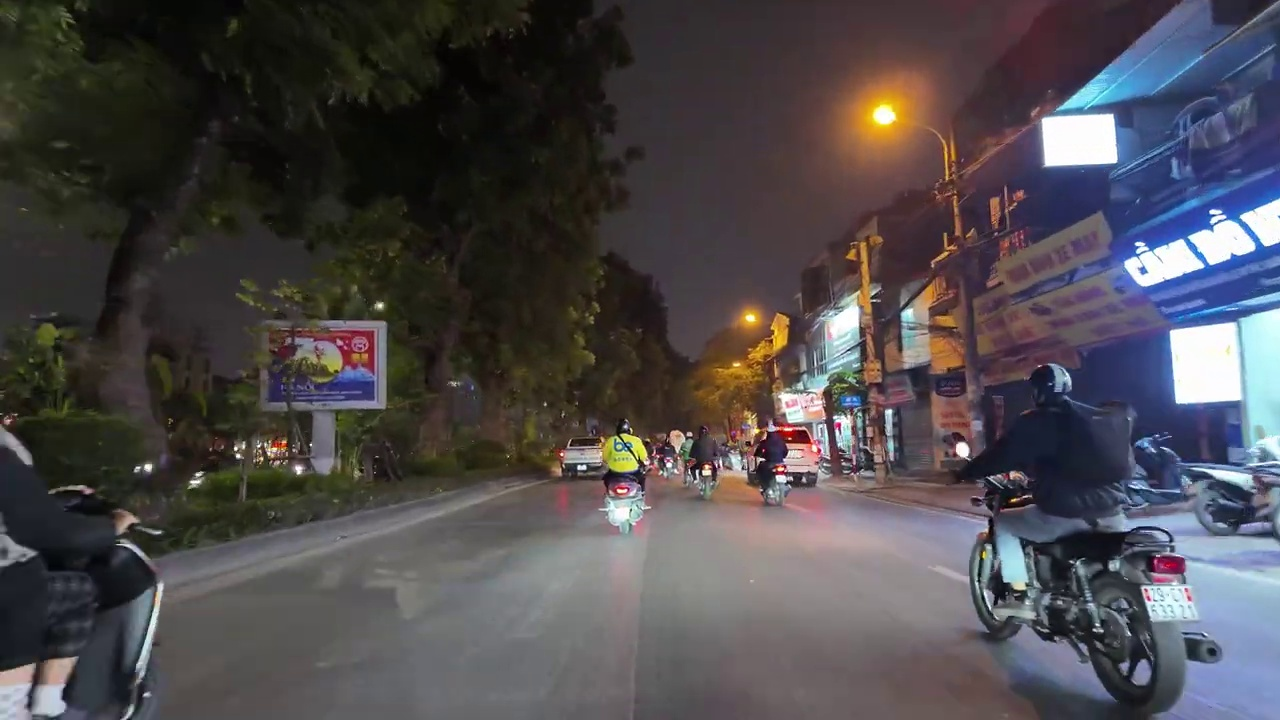acesa: (860, 92, 910, 140), (735, 305, 764, 332)
